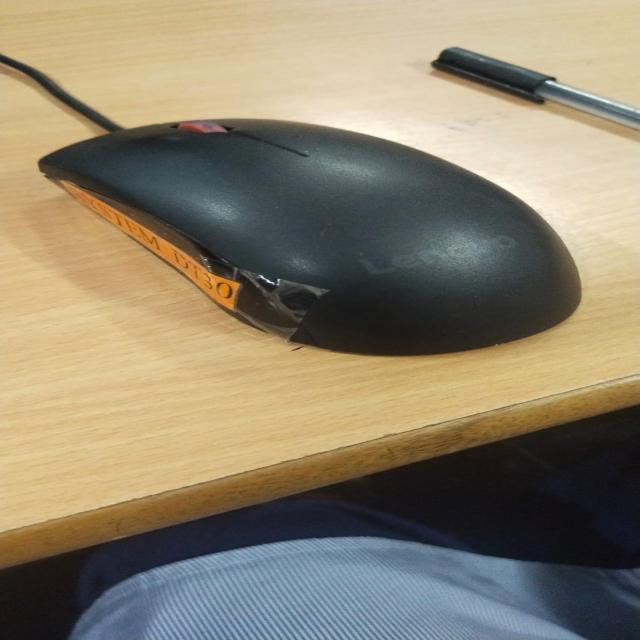mouse: (76, 108, 640, 377), (426, 53, 640, 149), (108, 78, 116, 104)
